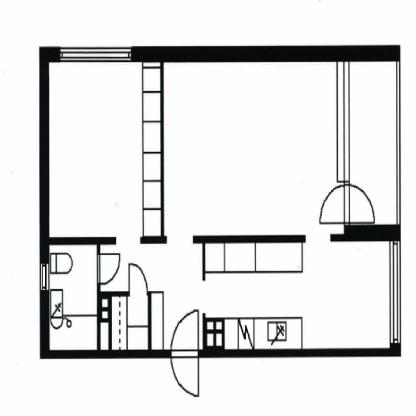door: (170, 303, 201, 402), (317, 182, 377, 226), (127, 262, 148, 296), (98, 255, 122, 284)
window: (390, 240, 402, 343), (61, 46, 130, 60), (40, 264, 48, 289)
zone: (48, 61, 391, 350), (348, 59, 396, 222), (48, 242, 99, 350), (101, 296, 163, 348)
